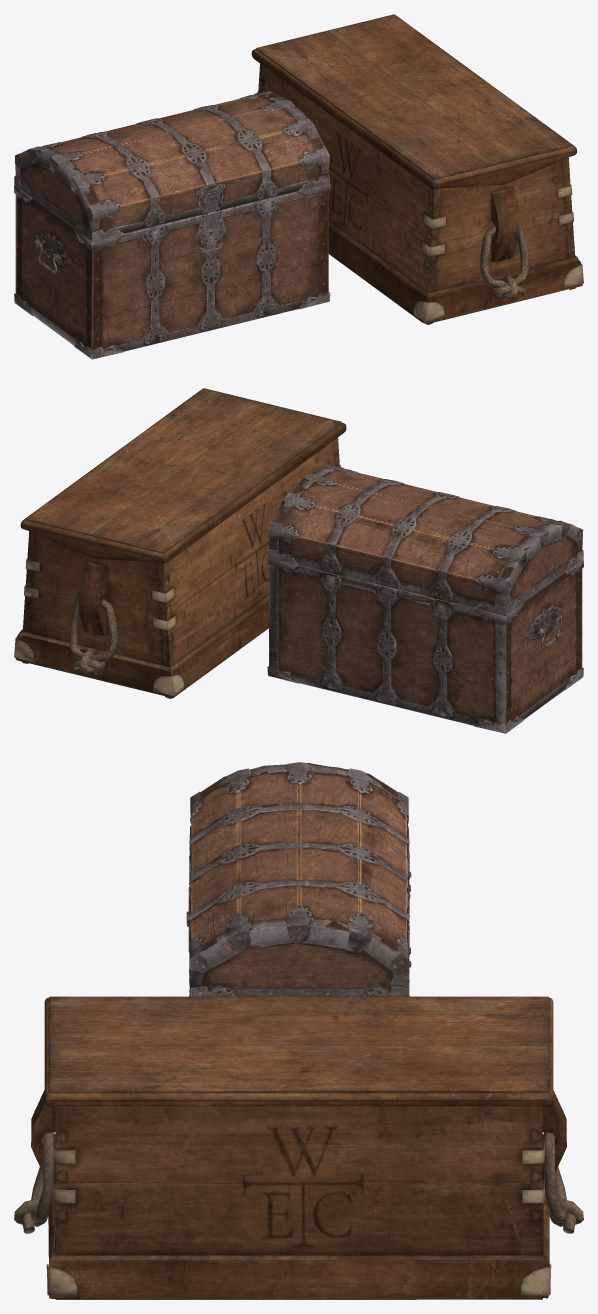
File: prop_bazaar_crates.glb
3 renders of one model, top to bottom at view 1: azimuth 30°, elevation 25°; view 2: azimuth 150°, elevation 25°; view 3: azimuth 270°, elevation 25°, orthographic. The views are drawn at different scales.
Parts seen in each view (by area): view 1: TreasureChest_0, WoodenCrate_0, TreasureChest_3, WoodenCrate_1, TreasureChest_4; view 2: TreasureChest_0, WoodenCrate_0, TreasureChest_3, WoodenCrate_1; view 3: WoodenCrate_0, WoodenCrate_1, TreasureChest_3.
Part boxes in pixels (bbox=[...]): TreasureChest_0: bbox=[14, 184, 330, 359]; WoodenCrate_0: bbox=[257, 63, 583, 324]; TreasureChest_3: bbox=[14, 91, 330, 241]; WoodenCrate_1: bbox=[251, 14, 577, 189]; TreasureChest_4: bbox=[197, 211, 224, 260]; TreasureChest_0: bbox=[267, 558, 583, 733]; WoodenCrate_0: bbox=[14, 437, 340, 698]; TreasureChest_3: bbox=[267, 465, 583, 615]; WoodenCrate_1: bbox=[20, 388, 346, 563]; WoodenCrate_0: bbox=[14, 1090, 583, 1299]; WoodenCrate_1: bbox=[44, 996, 553, 1106]; TreasureChest_3: bbox=[186, 762, 411, 996].
Size of the model in its own units: 1.86 by 0.6803 by 1.46.
2 materials, 2 textured.
